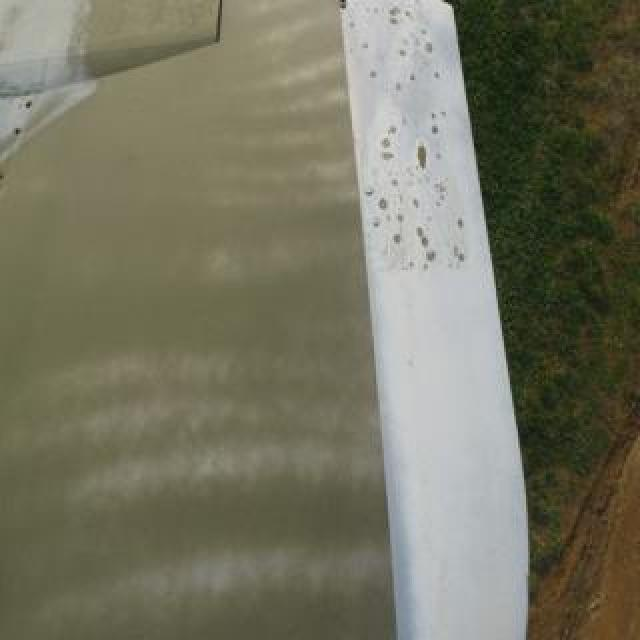dent: (419, 145, 431, 171), (379, 196, 391, 214), (417, 228, 429, 246), (426, 42, 436, 58), (432, 123, 442, 139), (457, 217, 467, 233), (428, 251, 438, 263), (384, 137, 394, 149), (395, 234, 405, 246), (370, 70, 380, 82), (391, 8, 403, 18), (362, 40, 372, 52), (385, 152, 395, 164), (400, 48, 410, 58), (399, 213, 407, 225), (460, 254, 468, 266), (454, 246, 460, 262), (390, 20, 402, 28), (410, 73, 418, 85), (391, 127, 399, 135), (396, 86, 404, 92), (436, 70, 442, 78)
